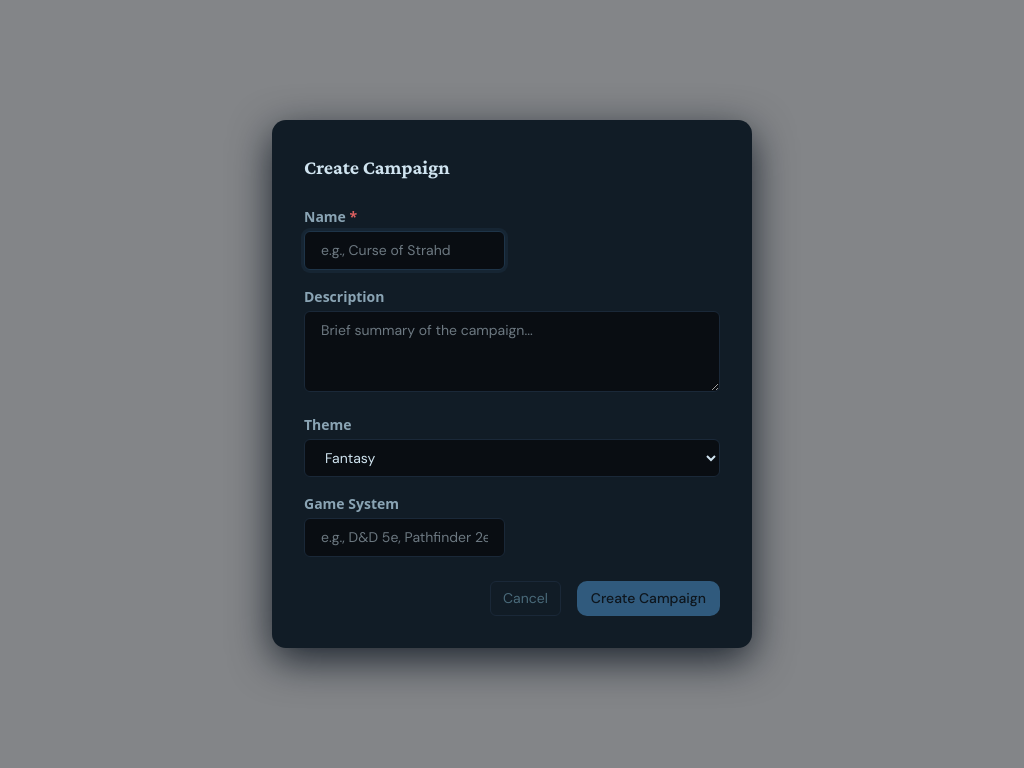
Test: CampaignCreateModal › enables submit when name is filled in
Type "My Campaign" into the field labelled "Name *" at (404, 250), box [304,231,505,270]
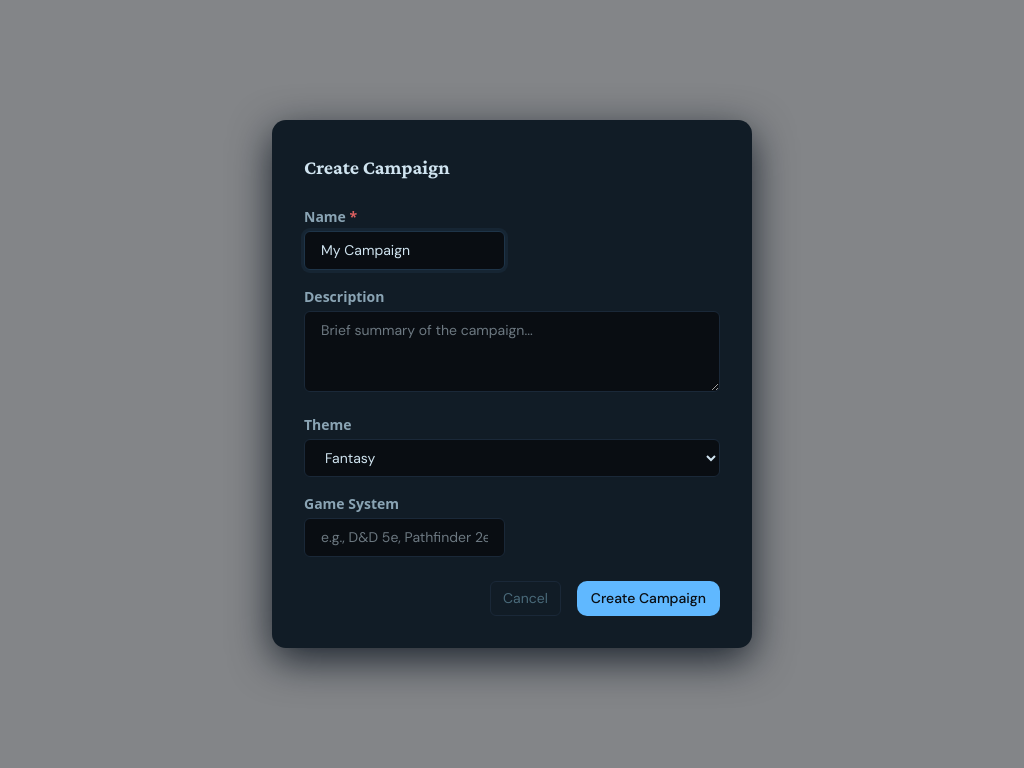
Check: the button "Create Campaign" is enabled, box [577,581,720,616]
